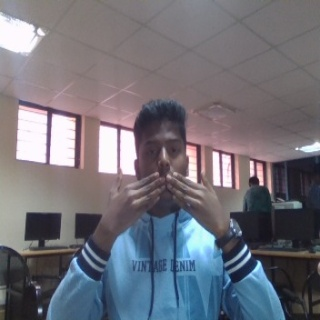Thank You: (100, 166, 228, 244)
